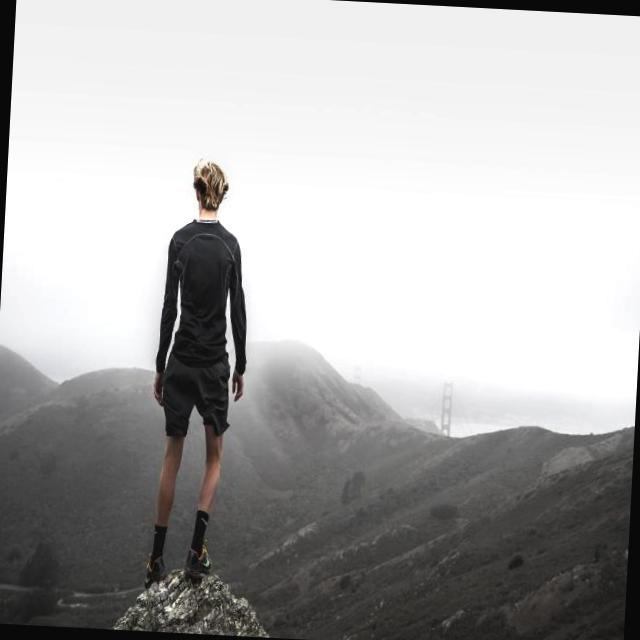person: (143, 158, 258, 592)
